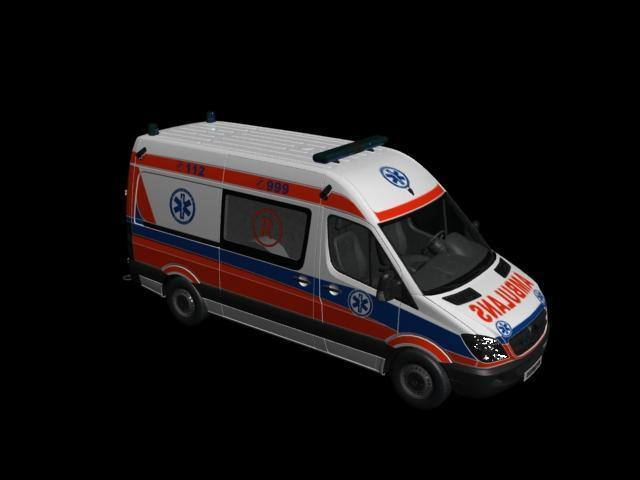Car: (121, 104, 555, 416)
